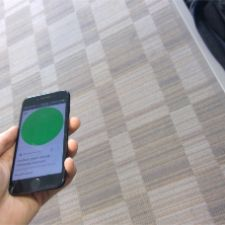focus: (20, 107, 64, 146)
